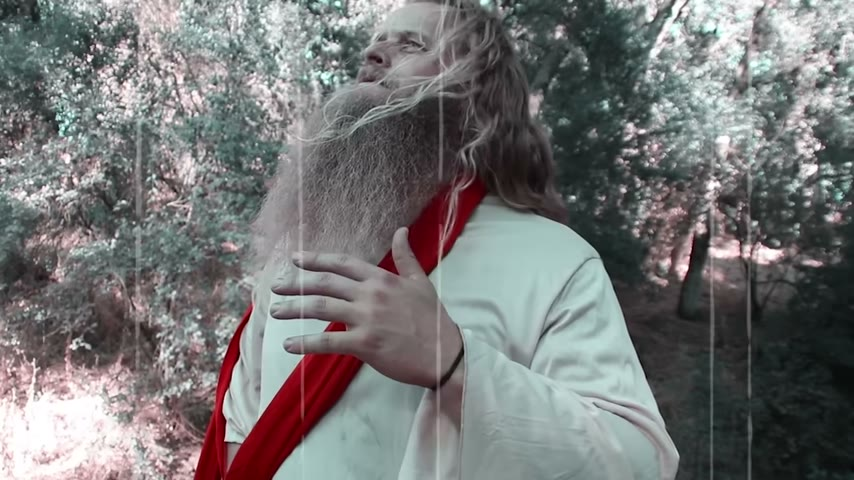barbell_plate_side: (254, 239, 388, 462)
